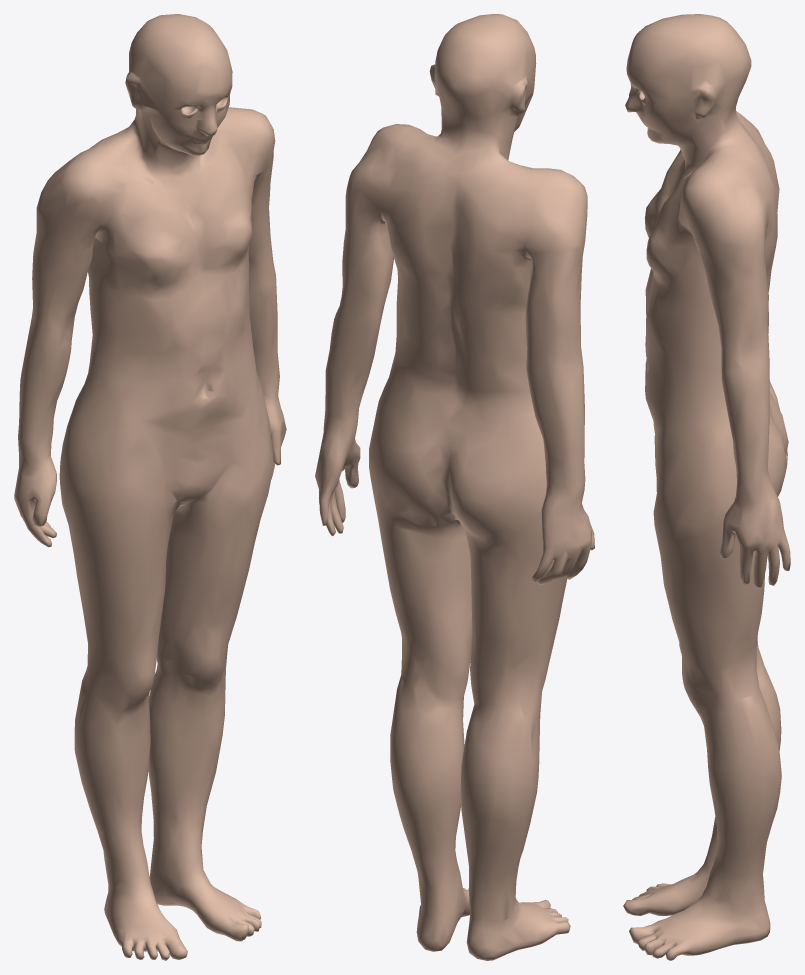
The model's file is icrp_adult_female.surface.LOD2.glb.
The picture shows the model from 3 angles, left to right: view 1: azimuth 30°, elevation 25°; view 2: azimuth 150°, elevation 25°; view 3: azimuth 270°, elevation 25°; orthographic projection.
Parts seen in each view (by area): view 1: ICRP.ADULT.FEMALE.SURFACE.SKIN; view 2: ICRP.ADULT.FEMALE.SURFACE.SKIN; view 3: ICRP.ADULT.FEMALE.SURFACE.SKIN.
Boxes of the visible parts, left/top/right/bottom form: ICRP.ADULT.FEMALE.SURFACE.SKIN: left=14, top=14, right=286, bottom=960; ICRP.ADULT.FEMALE.SURFACE.SKIN: left=315, top=14, right=594, bottom=960; ICRP.ADULT.FEMALE.SURFACE.SKIN: left=623, top=14, right=790, bottom=960.
Size of the model in its own units: 0.5056 by 1.63 by 0.2728.
